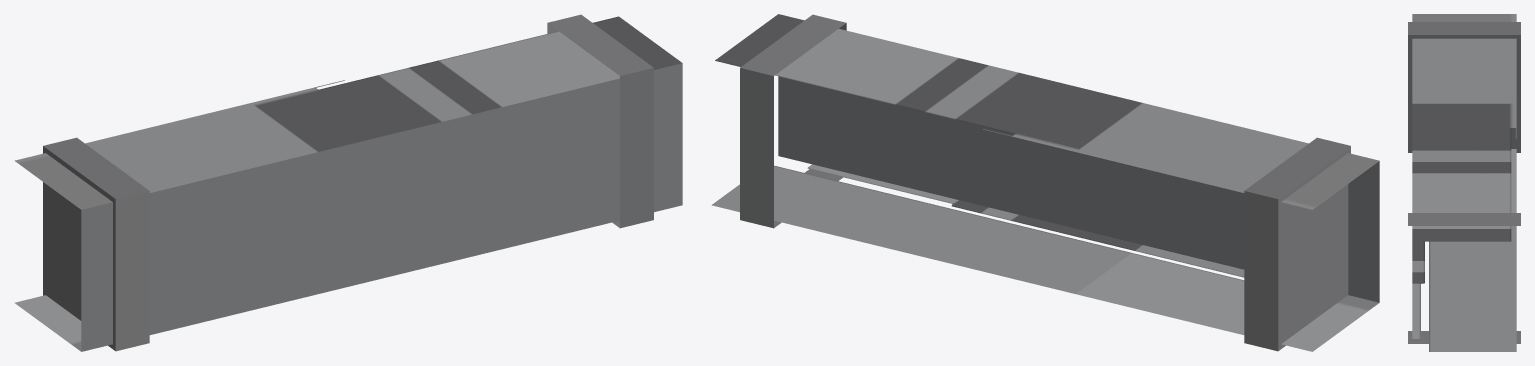
3 views of the same model, side by side, from view 1: azimuth 30°, elevation 25°; view 2: azimuth 150°, elevation 25°; view 3: azimuth 270°, elevation 25° (orthographic). The views are drawn at different scales.
Bounding box in the file's own units: 0.62 × 0.15 × 0.13.
